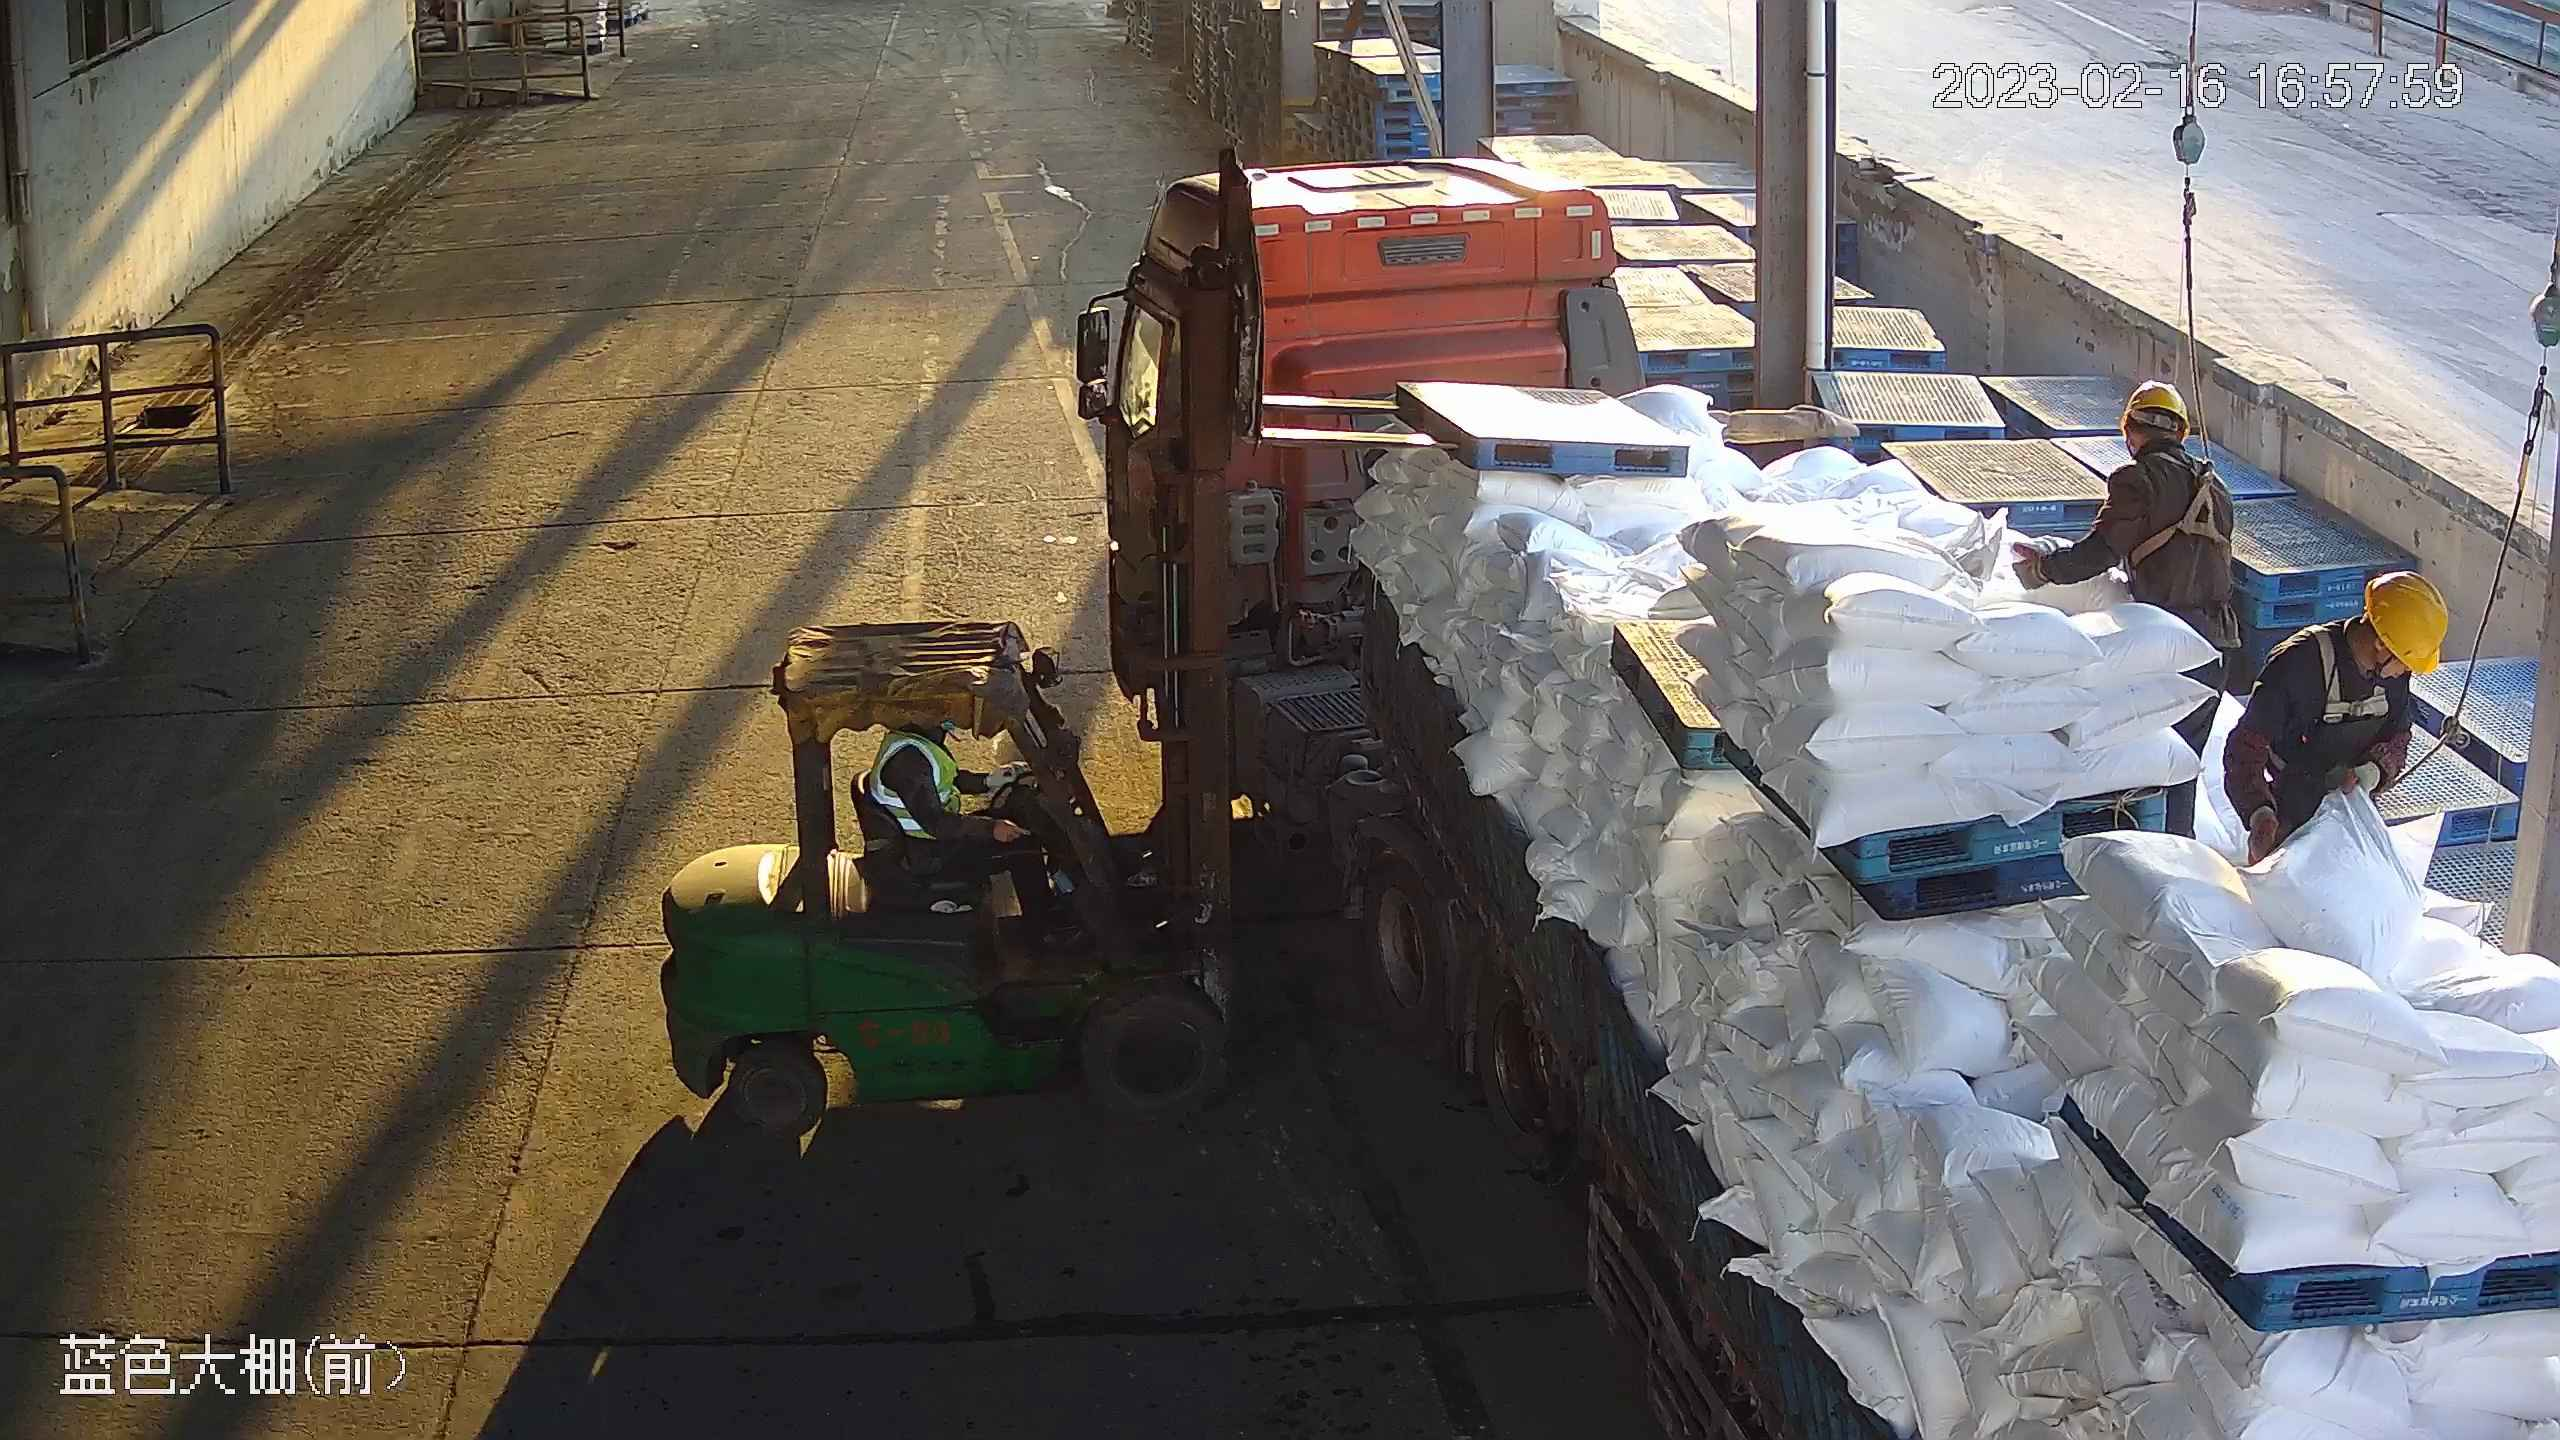belt: (2141, 453, 2227, 557), (2303, 640, 2393, 725)
head: (2300, 574, 2451, 702), (2102, 385, 2227, 515)
helmet: (2358, 571, 2451, 672), (2116, 378, 2190, 434)
people: (2020, 378, 2241, 843), (2228, 571, 2446, 872), (853, 700, 1056, 930)
truck: (1063, 155, 2560, 1440)
